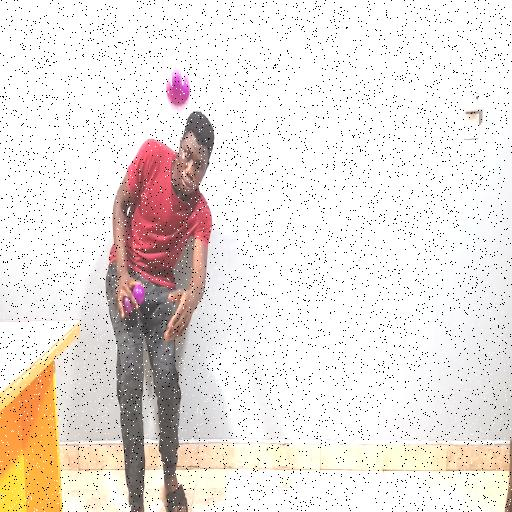plastic-ball: (163, 63, 192, 117)
